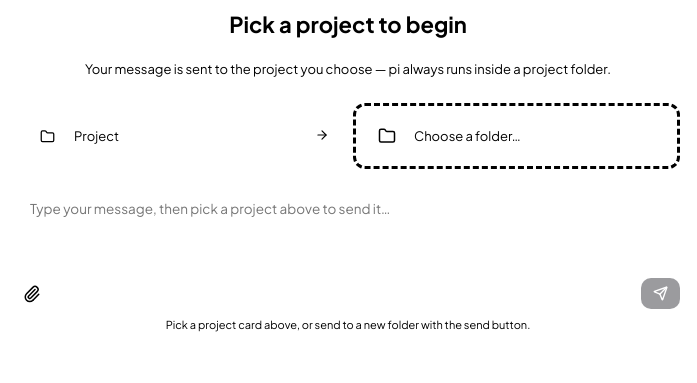
startup project prompt › sends text and attachments through the folder-picker flow via the send button
Step 1. Type "look at this" into the text box with placeholder "Type your message, then pick a project above to send it…" → x=348, y=230, box left=16, top=187, right=680, bottom=272
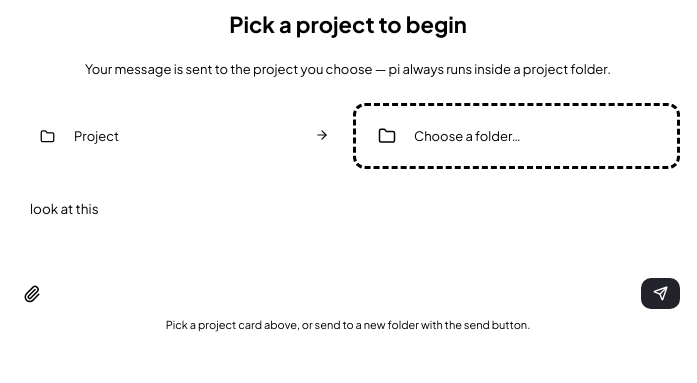
Step 2. Click the button with class "add" → x=32, y=294, box left=16, top=278, right=48, bottom=310
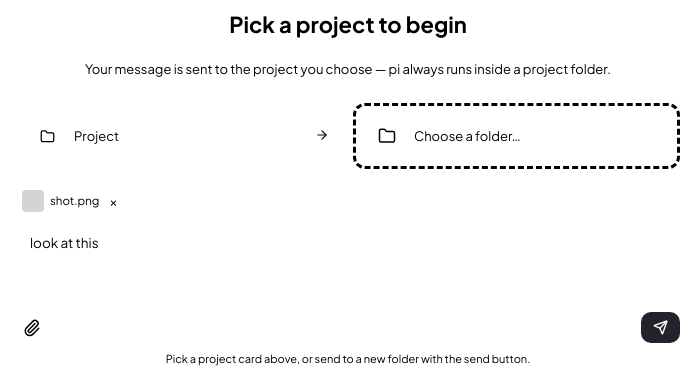
Step 3. Click the button with class "send" → x=660, y=328, box left=641, top=312, right=680, bottom=344
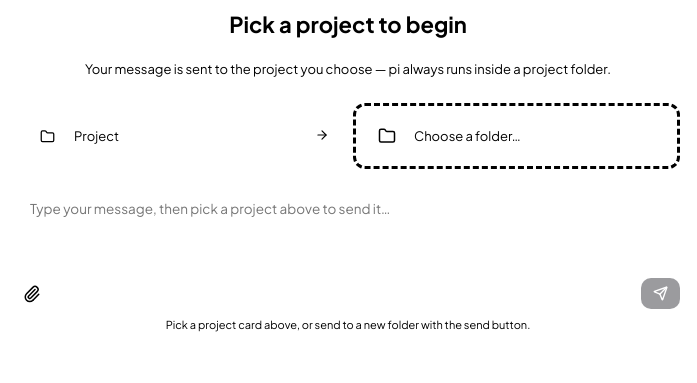
Result: the text box with placeholder "Type your message, then pick a project above to send it…" is empty at left=16, top=187, right=680, bottom=272
Result: no elements with class "chip" are shown
